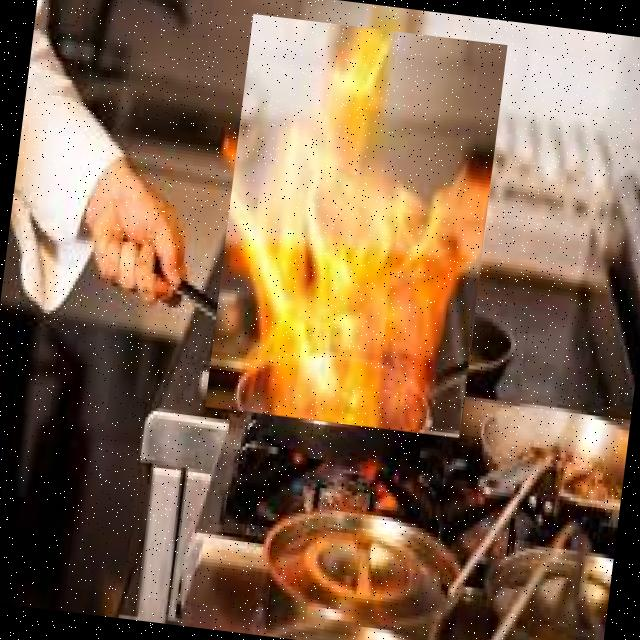fire: (204, 14, 507, 438)
